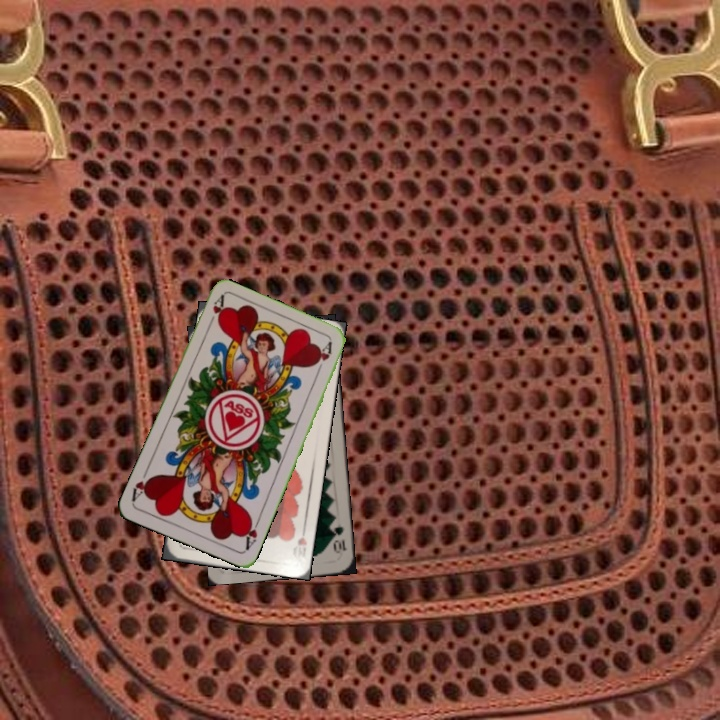G10: (328, 522, 350, 556)
H10: (294, 522, 309, 548)
HA: (239, 513, 263, 552), (203, 292, 227, 331)
